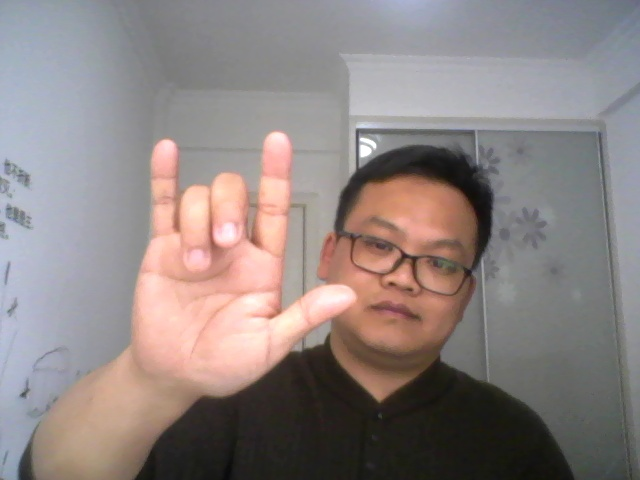I Love You: (125, 120, 358, 404)
